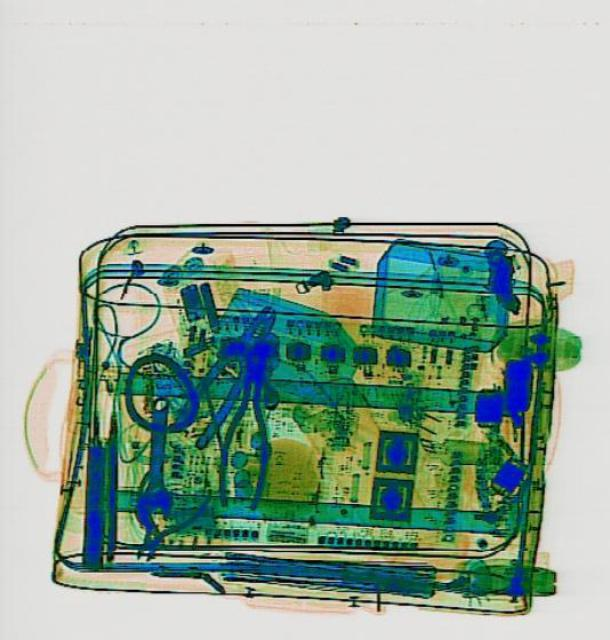Pliers: (165, 297, 292, 451), (213, 340, 284, 508), (110, 461, 213, 571)
Wrench: (129, 396, 178, 532)
